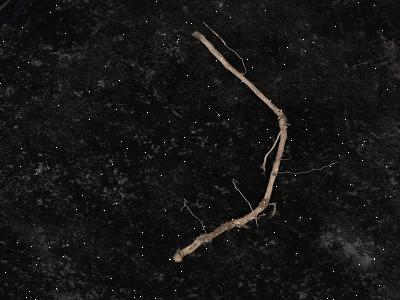Root: (173, 22, 290, 262)
